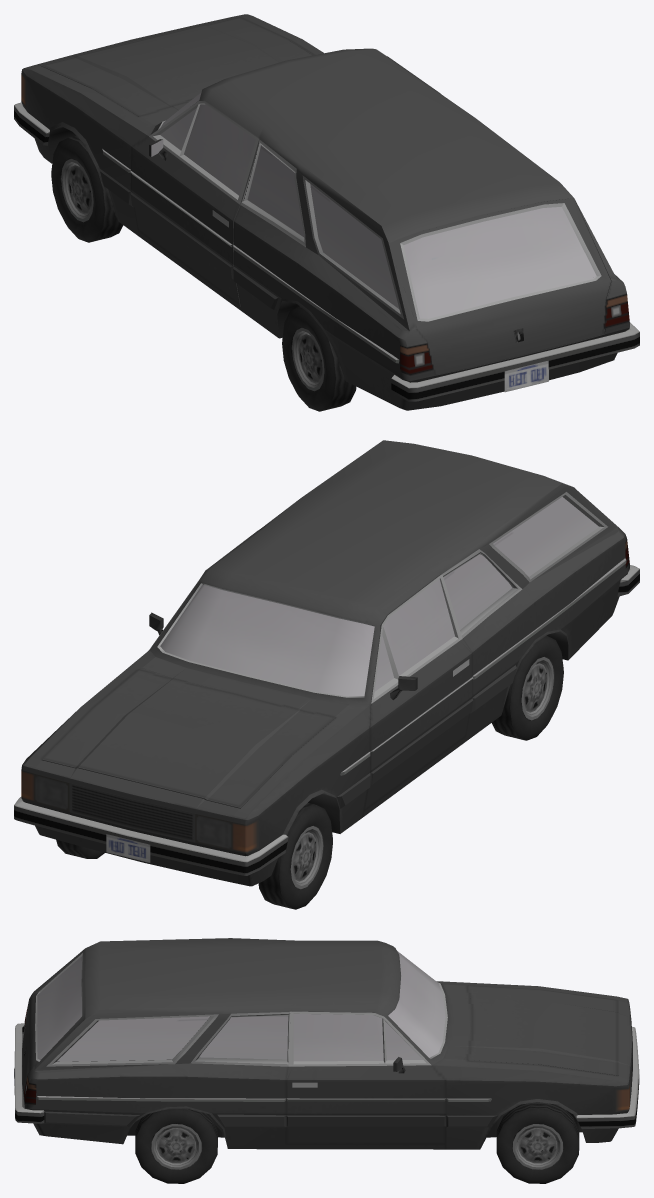
File: viajante.glb
The picture shows the model from 3 angles, top to bottom: view 1: azimuth 30°, elevation 25°; view 2: azimuth 150°, elevation 25°; view 3: azimuth 270°, elevation 25°; orthographic projection. The views are drawn at different scales.
Visible parts, largest first — view 1: Object_3, Object_2, Object_4; view 2: Object_3, Object_2, Object_4; view 3: Object_3, Object_2, Object_4, Object_11.
Boxes of the visible parts, x1,y1,x2,y2 form: Object_3: (14, 14, 639, 410); Object_2: (130, 56, 440, 306); Object_4: (51, 136, 356, 411); Object_3: (14, 440, 639, 886); Object_2: (148, 530, 473, 812); Object_4: (56, 635, 563, 909); Object_3: (14, 938, 639, 1149); Object_2: (286, 1011, 446, 1145); Object_4: (135, 1102, 579, 1183); Object_11: (293, 1014, 383, 1061).
Size of the model in its own units: 0.0227 by 0.0181 by 0.0591.
Materials: 4 (4 with a texture image).
